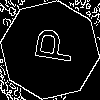P: (25, 25, 76, 65)
